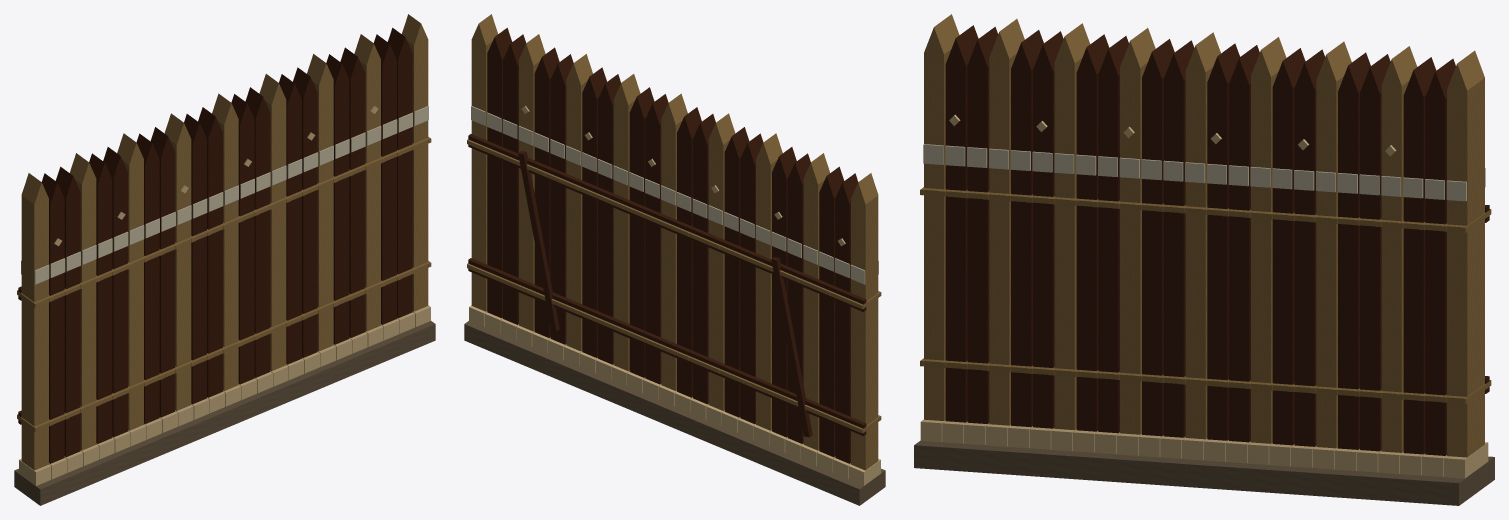
The model's file is Berber_Palisade_Age4_slope_up_6m.fbx.
The picture shows the model from 3 angles, left to right: view 1: azimuth 30°, elevation 25°; view 2: azimuth 150°, elevation 25°; view 3: azimuth 330°, elevation 25°; orthographic projection. The views are drawn at different scales.
Visible parts, largest first — view 1: palm_split_post.051, palm_split_post.049, palm_split_post.054, palm_split_post.047, palm_split_post.044, palm_split_post.050, earth_seat.007, palm_split_post.053, palm_split_post.056, post_earth_socket.007, neutral_owner_band.007, front_lashing.007 (+1 smaller); view 2: palm_split_post.049, palm_split_post.054, palm_split_post.044, palm_split_post.047, palm_split_post.051, earth_seat.007, palm_split_post.050, palm_split_post.053, palm_split_post.056, continuous_rear_tie.007, post_earth_socket.007, neutral_owner_band.007 (+3 smaller); view 3: palm_split_post.049, palm_split_post.054, palm_split_post.047, palm_split_post.051, palm_split_post.044, palm_split_post.053, palm_split_post.056, palm_split_post.050, earth_seat.007, post_earth_socket.007, neutral_owner_band.007, front_lashing.007 (+1 smaller).
Part boxes in pixels (x1,y1,x2,y2): palm_split_post.051: (89,47,365,443); palm_split_post.049: (56,34,396,457); palm_split_post.054: (136,27,412,423); palm_split_post.047: (41,67,317,463); palm_split_post.044: (21,14,428,470); palm_split_post.050: (70,74,286,450); earth_seat.007: (14,321,435,505); palm_split_post.053: (117,54,333,430); palm_split_post.056: (164,34,380,410); post_earth_socket.007: (19,305,430,485); neutral_owner_band.007: (21,106,428,284); front_lashing.007: (34,138,430,430); palm_split_post.049: (503,34,843,457); palm_split_post.054: (487,27,763,423); palm_split_post.044: (471,14,878,470); palm_split_post.047: (582,67,858,463); palm_split_post.051: (534,47,810,443); earth_seat.007: (464,321,885,505); palm_split_post.050: (613,74,829,450); palm_split_post.053: (566,54,782,430); palm_split_post.056: (519,34,735,410); continuous_rear_tie.007: (468,134,866,435); post_earth_socket.007: (469,305,880,485); neutral_owner_band.007: (471,106,878,284); palm_split_post.049: (967,26,1436,454); palm_split_post.054: (1076,34,1455,455); palm_split_post.047: (945,25,1325,446); palm_split_post.051: (1011,30,1390,451); palm_split_post.044: (924,14,1484,457); palm_split_post.053: (1054,23,1351,448); palm_split_post.056: (1120,28,1417,452); palm_split_post.050: (989,19,1286,443); earth_seat.007: (914,440,1494,505); post_earth_socket.007: (920,419,1488,478); neutral_owner_band.007: (923,144,1485,201); front_lashing.007: (921,188,1466,403).
Size of the model in its own units: 601 by 556 by 68.29.
Materials: 5 (5 with a texture image).
